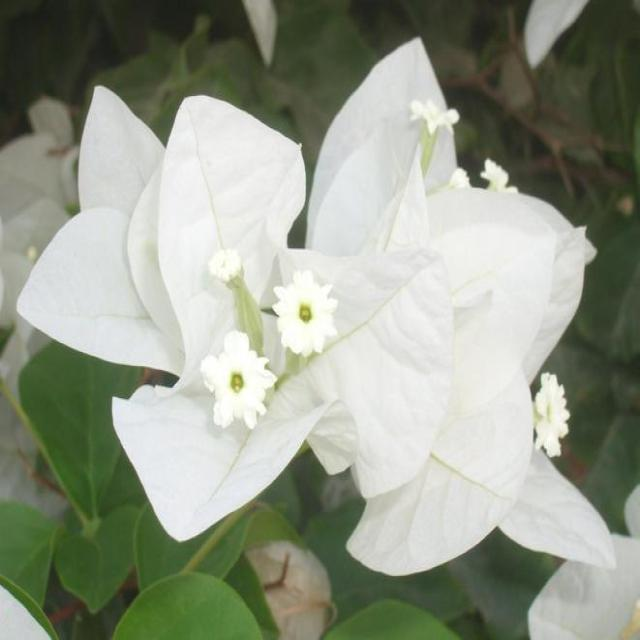bougainvillea: (288, 19, 610, 611), (32, 80, 378, 548)
